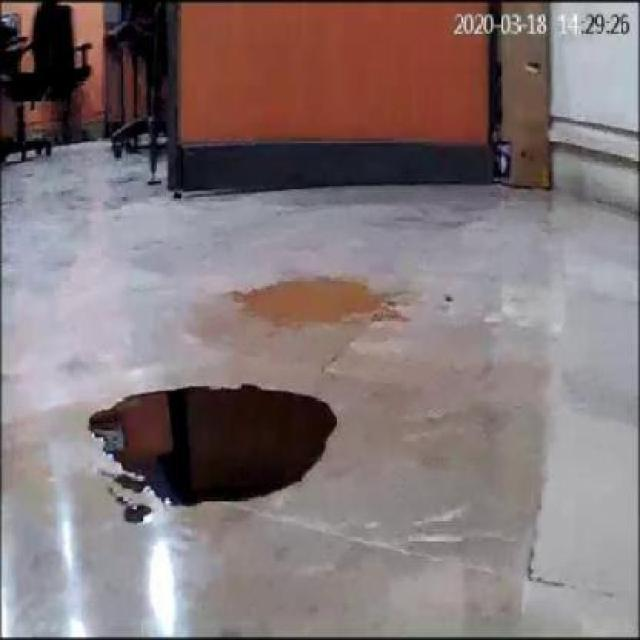spillage: (89, 385, 337, 525), (234, 279, 399, 327)
